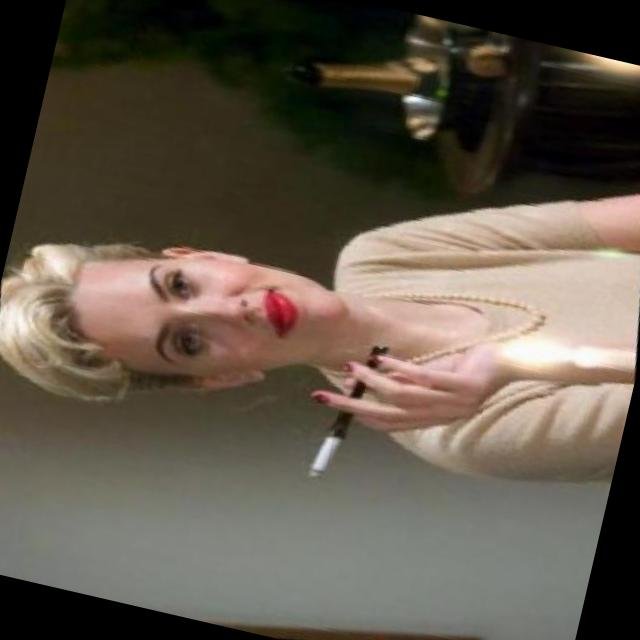cigarette: (298, 426, 358, 488)
